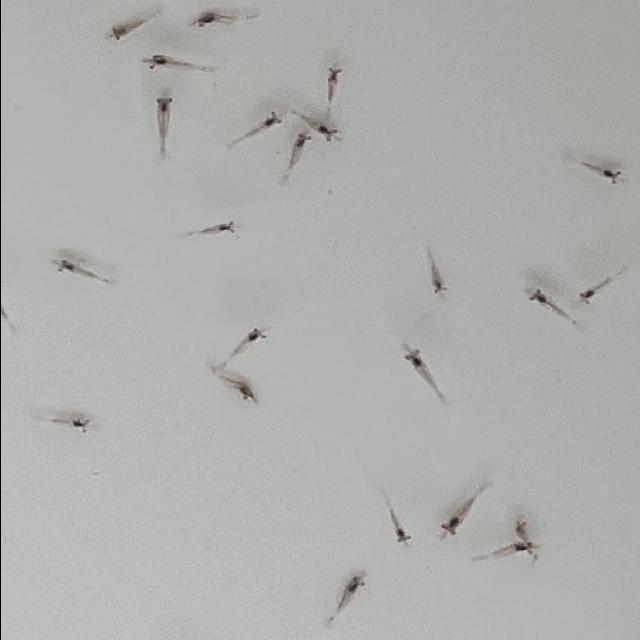shrimp-seed: (50, 257, 80, 278), (150, 96, 178, 118), (345, 568, 367, 596), (438, 514, 462, 539), (109, 22, 132, 44), (146, 52, 168, 74), (262, 109, 284, 131), (402, 348, 424, 370), (524, 286, 548, 306), (316, 124, 340, 143), (598, 166, 620, 186), (192, 11, 215, 30), (216, 218, 240, 235), (70, 415, 90, 435), (248, 324, 268, 344), (511, 539, 533, 557), (574, 287, 596, 305), (237, 384, 255, 404), (322, 66, 340, 86), (428, 278, 446, 298), (511, 518, 529, 536), (393, 527, 410, 545), (292, 132, 310, 148)
